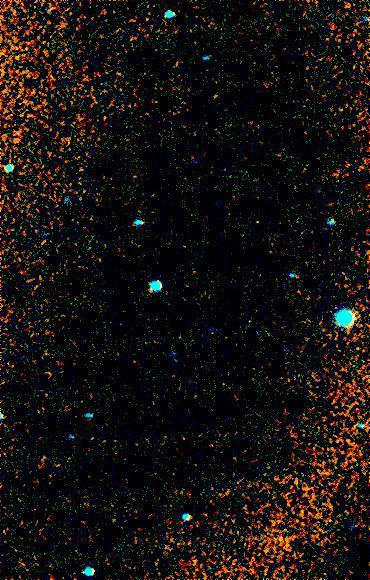star: (3, 124, 33, 154)
